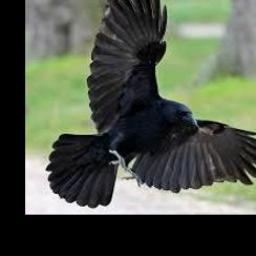Crow: (46, 0, 256, 207)
